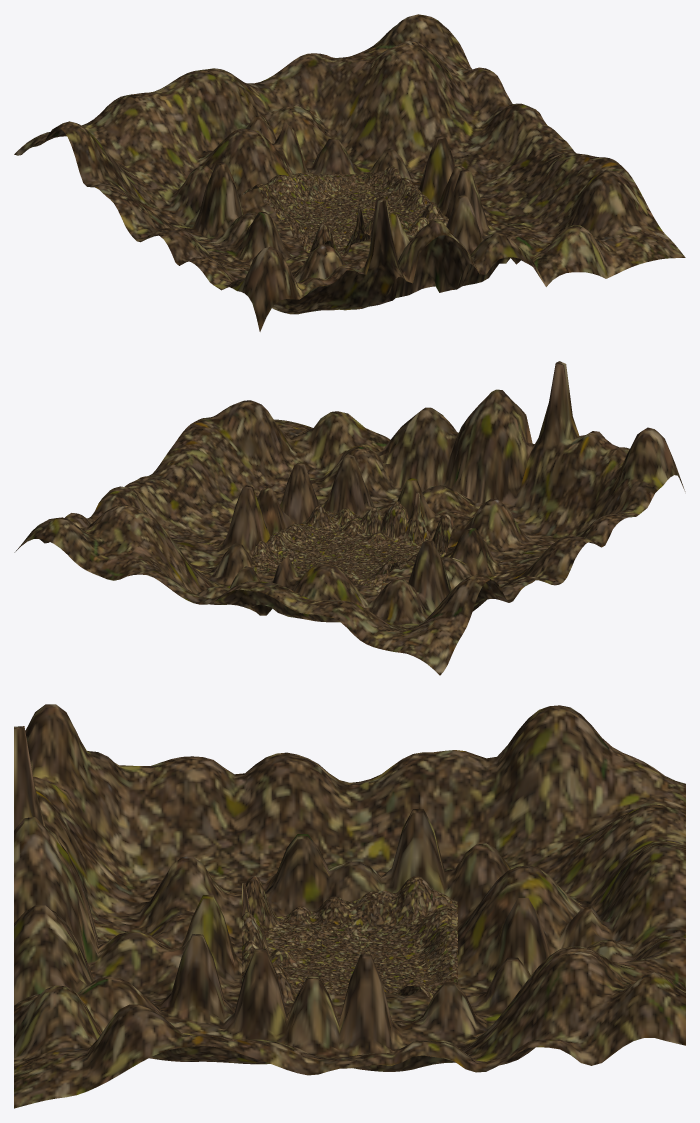
File: underworld bg.fbx
The picture shows the model from 3 angles, top to bottom: view 1: azimuth 30°, elevation 25°; view 2: azimuth 150°, elevation 25°; view 3: azimuth 270°, elevation 25°; orthographic projection. The views are drawn at different scales.
Visible parts, largest first — view 1: bg terrain underworld; view 2: bg terrain underworld; view 3: bg terrain underworld.
Part boxes in pixels (bbox=[...]): bg terrain underworld: bbox=[14, 14, 685, 331]; bg terrain underworld: bbox=[14, 361, 685, 675]; bg terrain underworld: bbox=[14, 704, 685, 1108].
Size of the model in its own units: 45583 by 14144 by 45583.
